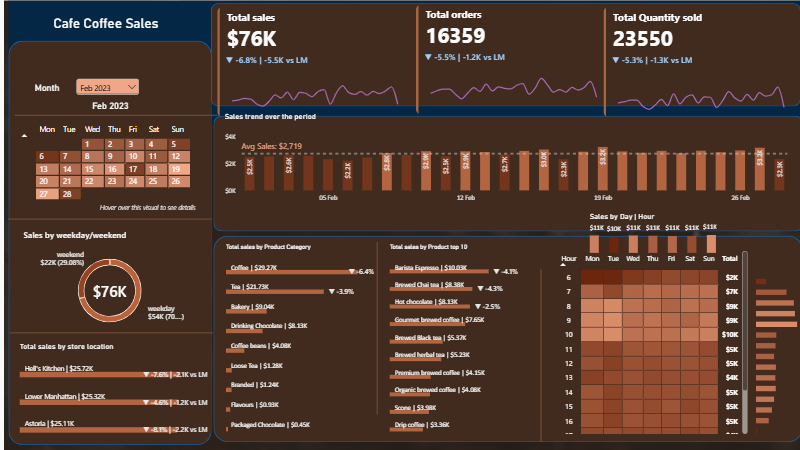

What the dashboard file says about the page in this screenshot:
{"tool":"powerbi","page":{"name":"Page 1","canvas":[1400,850],"ordinal":0},"visuals":[{"type":"shape","box":[68.6,61.4,1271.4,200],"z":0},{"type":"shape","box":[68.3,125,325,646.7],"z":1000},{"type":"shape","box":[392.9,65.7,943.3,165],"z":2000},{"type":"cardVisual","fields":{"Data":["Transactions.Total orders"]},"box":[718.4,67.1,320,176.7],"z":3000,"group":"g2"},{"type":"cardVisual","fields":{"Data":["Transactions.Total sales"]},"box":[401.3,71.4,320,176.7],"z":3000,"group":"g3"},{"type":"cardVisual","fields":{"Data":["Transactions.Total Quantity sold"]},"box":[1019.9,71.4,320,176.7],"z":3000,"group":"g4"},{"type":"slicer","fields":{"Values":["Date Table.month year"]},"box":[171.4,182.9,110,34.3],"z":3000},{"type":"group","id":"g1","title":"Group 1","box":[400,71.4,321.4,181.4],"z":4000},{"type":"lineChart","fields":{"Category":["Date Table.Date.Variation.Date Hierarchy.Year","Date Table.Date.Variation.Date Hierarchy.Quarter","Date Table.Date.Variation.Date Hierarchy.Month","Date Table.Date.Variation.Date Hierarchy.Day"],"Y":["Transactions.Total orders"]},"box":[717.1,127.5,316.7,121.7],"z":4001,"group":"g2"},{"type":"lineChart","fields":{"Category":["Date Table.Date.Variation.Date Hierarchy.Year","Date Table.Date.Variation.Date Hierarchy.Quarter","Date Table.Date.Variation.Date Hierarchy.Month","Date Table.Date.Variation.Date Hierarchy.Day"],"Y":["Transactions.Total sales"]},"box":[400,131.8,316.7,121.7],"z":4001,"group":"g3"},{"type":"lineChart","fields":{"Category":["Date Table.Date.Variation.Date Hierarchy.Year","Date Table.Date.Variation.Date Hierarchy.Quarter","Date Table.Date.Variation.Date Hierarchy.Month","Date Table.Date.Variation.Date Hierarchy.Day"],"Y":["Transactions.Total Quantity sold"]},"box":[1018.6,131.8,316.7,121.7],"z":4001,"group":"g4"},{"type":"group","id":"g2","title":"Group 2","box":[717.1,67.1,321.7,181.7],"z":4003,"group":"g5"},{"type":"group","id":"g3","title":"Group 2","box":[400,71.4,321.7,181.7],"z":4003,"group":"g1"},{"type":"group","id":"g4","title":"Group 2","box":[1018.6,71.4,321.7,181.7],"z":4003,"group":"g6"},{"type":"group","id":"g5","title":"Group 1","box":[717.1,67.1,321.4,181.4],"z":5000},{"type":"group","id":"g6","title":"Group 1","box":[1018.6,71.4,321.4,181.4],"z":6000},{"type":"pivotTable","fields":{"Columns":["Date Table.Day name"],"Rows":["Date Table.Week Number"],"Values":["Min(Date Table.Day number)"]},"box":[68.3,243.3,325,190],"z":7000},{"type":"cardVisual","fields":{"Data":["Min(Date Table.month year)"]},"box":[186.7,216.7,94.3,27.1],"z":8000},{"type":"cardVisual","fields":{"Data":["Transactions.foot-note"]},"box":[198.3,383.3,194.3,15.7],"z":9000},{"type":"shape","box":[68.3,398.3,325,26.7],"z":10000},{"type":"shape","box":[78.6,231.4,325,26.7],"z":11000},{"type":"donutChart","fields":{"Category":["Date Table.weekday/weekend"],"Y":["Transactions.Total sales"]},"box":[76.7,411.7,308,195],"z":12000},{"type":"shape","box":[70,580,325,26.7],"z":13000},{"type":"clusteredBarChart","title":"Total sales by store location","fields":{"Category":["Transactions.store_location"],"Y":["Transactions.place holder","Transactions.Total sales"]},"box":[70,593.3,332.5,178.3],"z":14000},{"type":"shape","box":[395.7,245.7,943.3,185],"z":15000},{"type":"columnChart","title":"Sales trend over the period","fields":{"Category":["Transactions.transaction_date"],"Y":["Transactions.Total sales"]},"box":[397.6,225.9,934,178],"z":16000},{"type":"shape","box":[395.7,437.1,942.9,330],"z":17000},{"type":"clusteredBarChart","title":"Total sales by Product Category","fields":{"Category":["Transactions.product_category"],"Y":["Transactions.place holder","Transactions.Total sales"]},"box":[400,435.7,268.6,331.4],"z":18000},{"type":"shape","box":[648.6,448.6,20,275.7],"z":19000},{"type":"clusteredBarChart","title":"Total sales by Product top 10","fields":{"Category":["Transactions.product_type"],"Y":["Transactions.place holder","Transactions.Total sales"]},"box":[661.4,435.7,268.6,331.4],"z":20000},{"type":"shape","box":[910,491.4,20,275.7],"z":21000},{"type":"pivotTable","fields":{"Columns":["Date Table.Day name"],"Rows":["Transactions.Hour"],"Values":["Transactions.Total sales"]},"box":[930,448.6,337.1,322.9],"z":22000},{"type":"barChart","fields":{"Category":["Transactions.Hour"],"Y":["Transactions.Total sales"]},"box":[1248.6,481.4,100,291.4],"z":23000},{"type":"columnChart","title":"Sales by Day | Hour","fields":{"Category":["Date Table.Day name"],"Y":["Transactions.Total sales"]},"box":[981,391,235,90],"z":24000},{"type":"cardVisual","fields":{"Data":["Transactions.Title"]},"box":[981.4,385.7,157.1,40],"z":24001},{"type":"cardVisual","fields":{"Data":["Transactions.Naming2"]},"box":[124.3,82.9,205.7,31.4],"z":24002},{"type":"cardVisual","fields":{"Data":["Transactions.Naming"]},"box":[94.3,187.1,77.1,27.1],"z":24003}]}

Visuals, with their boxes on the page's 1400x850 design canvas (x1, y1, x2, y2). These are canvas units, not pixel positions in the 800x450 screenshot, which may show the page scaled, cropped or inside an application window:
shape: 69/61/1340/261
shape: 68/125/393/772
shape: 393/66/1336/231
cardVisual - Transactions.Total orders: 718/67/1038/244
cardVisual - Transactions.Total sales: 401/71/721/248
cardVisual - Transactions.Total Quantity sold: 1020/71/1340/248
slicer - Date Table.month year: 171/183/281/217
"Group 1" group: 400/71/721/253
lineChart - Date Table.Date.Variation.Date Hierarchy.Year x Date Table.Date.Variation.Date Hierarchy.Quarter: 717/128/1034/249
lineChart - Date Table.Date.Variation.Date Hierarchy.Year x Date Table.Date.Variation.Date Hierarchy.Quarter: 400/132/717/254
lineChart - Date Table.Date.Variation.Date Hierarchy.Year x Date Table.Date.Variation.Date Hierarchy.Quarter: 1019/132/1335/254
"Group 2" group: 717/67/1039/249
"Group 2" group: 400/71/722/253
"Group 2" group: 1019/71/1340/253
"Group 1" group: 717/67/1038/248
"Group 1" group: 1019/71/1340/253
pivotTable - Date Table.Day name x Date Table.Week Number: 68/243/393/433
cardVisual - Min(Date Table.month year): 187/217/281/244
cardVisual - Transactions.foot-note: 198/383/393/399
shape: 68/398/393/425
shape: 79/231/404/258
donutChart - Date Table.weekday/weekend x Transactions.Total sales: 77/412/385/607
shape: 70/580/395/607
"Total sales by store location" clusteredBarChart: 70/593/402/772
shape: 396/246/1339/431
"Sales trend over the period" columnChart: 398/226/1332/404
shape: 396/437/1339/767
"Total sales by Product Category" clusteredBarChart: 400/436/669/767
shape: 649/449/669/724
"Total sales by Product top 10" clusteredBarChart: 661/436/930/767
shape: 910/491/930/767
pivotTable - Date Table.Day name x Transactions.Hour: 930/449/1267/772
barChart - Transactions.Hour x Transactions.Total sales: 1249/481/1349/773
"Sales by Day | Hour" columnChart: 981/391/1216/481
cardVisual - Transactions.Title: 981/386/1138/426
cardVisual - Transactions.Naming2: 124/83/330/114
cardVisual - Transactions.Naming: 94/187/171/214
